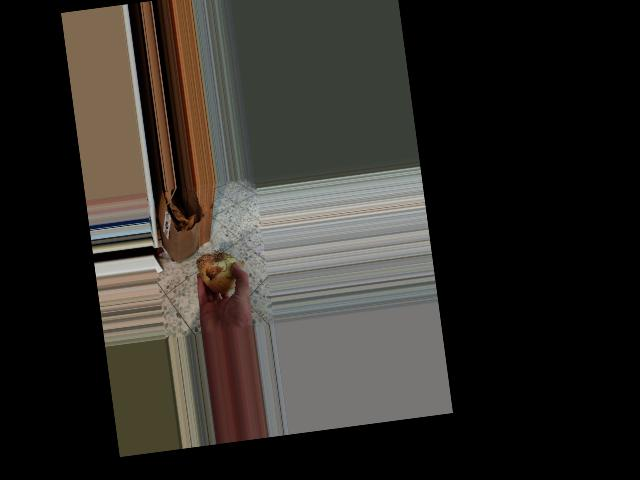onion: (194, 247, 245, 298)
